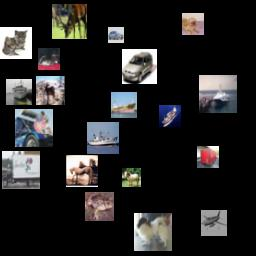airplane: (201, 210, 227, 236)
automobile: (122, 49, 157, 84), (108, 27, 124, 43)
cat: (0, 27, 32, 59), (38, 48, 60, 70)
deer: (52, 4, 87, 39), (36, 76, 65, 105)
dog: (134, 213, 172, 251), (182, 13, 204, 35)
frog: (85, 192, 114, 221)
ship: (199, 75, 237, 113), (87, 122, 119, 154), (6, 79, 32, 105), (111, 92, 137, 118), (159, 105, 181, 127)
truck: (15, 109, 53, 147), (2, 151, 40, 189), (197, 146, 219, 168)
